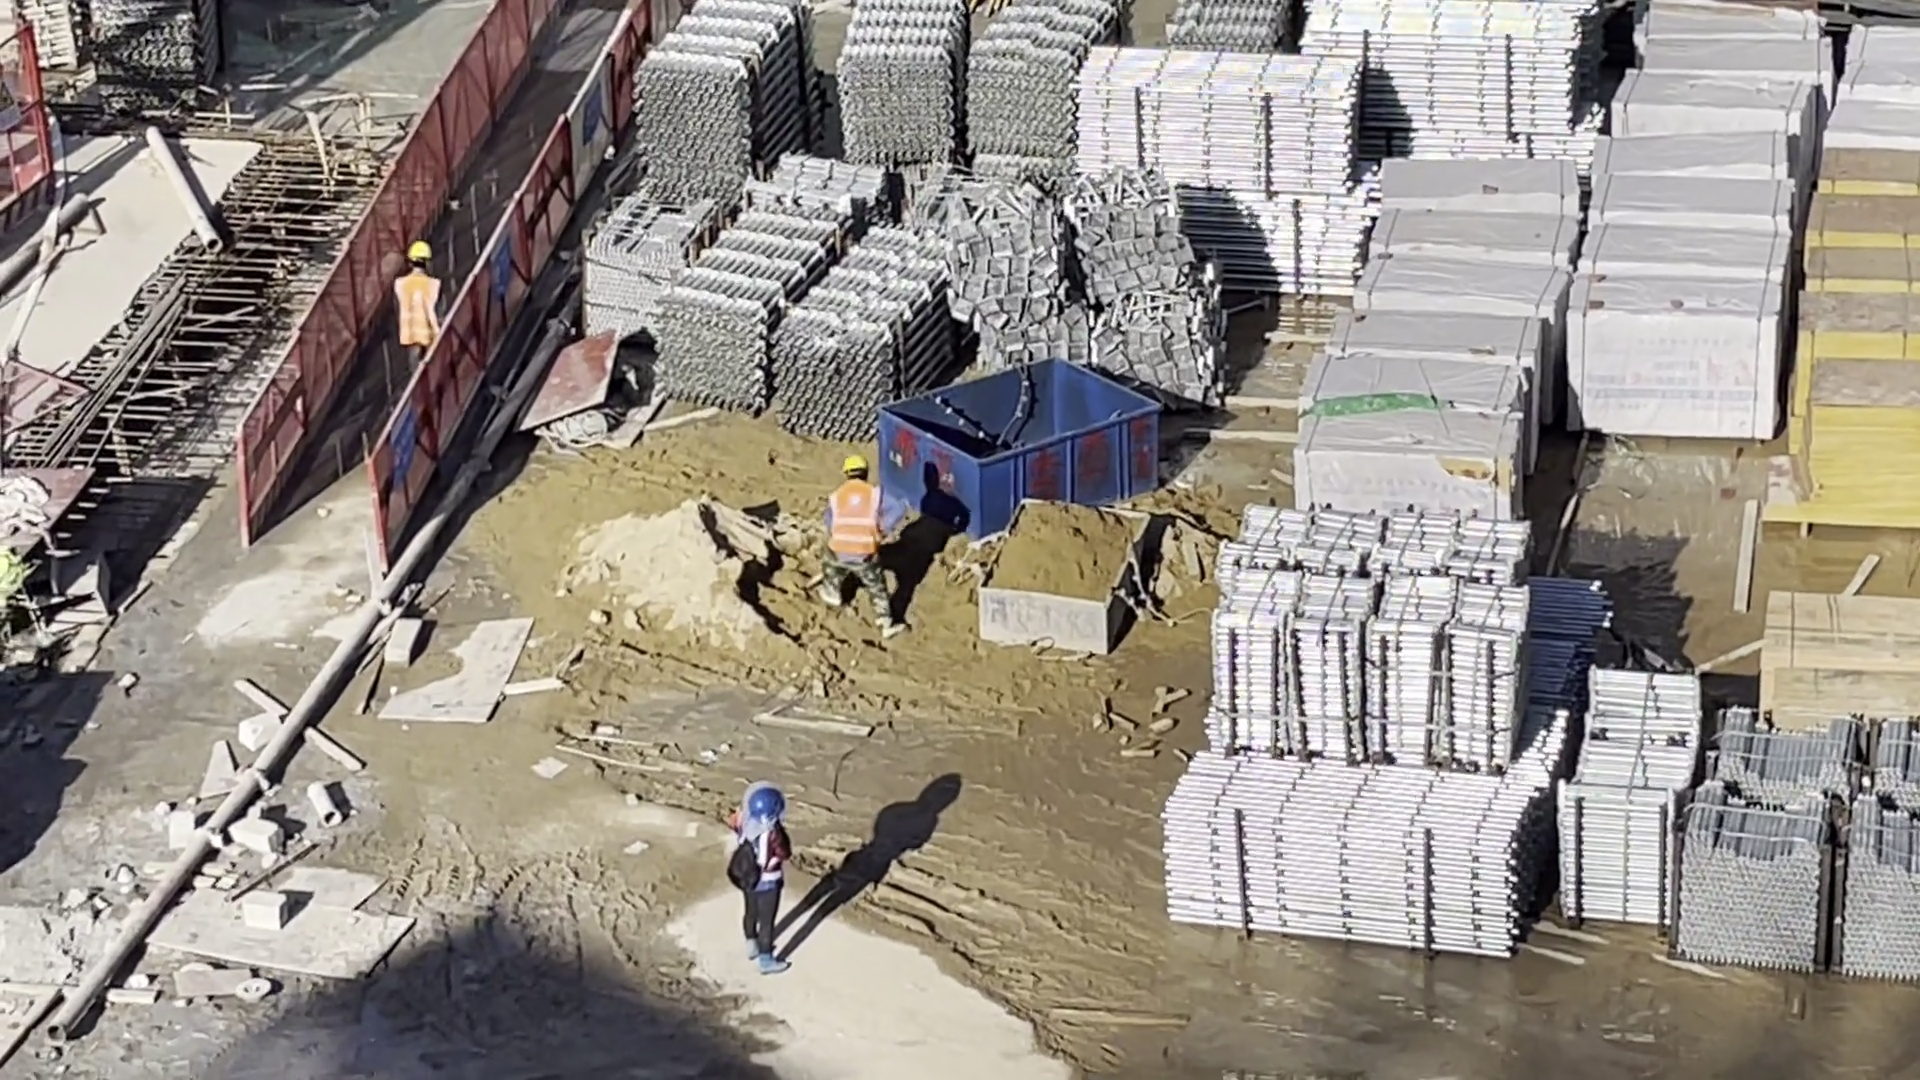board: (1789, 147, 1920, 536), (1767, 591, 1920, 712)
fence: (243, 4, 650, 543)
helmet: (753, 790, 784, 822), (840, 456, 871, 475), (409, 242, 430, 260)
hopper: (877, 357, 1161, 515), (978, 499, 1150, 653)
person: (831, 456, 892, 638), (742, 795, 792, 969), (393, 242, 447, 374)
scaffold: (1211, 510, 1531, 769), (1161, 757, 1555, 960), (666, 207, 956, 438), (1674, 718, 1920, 973), (835, 1, 1128, 166), (1082, 51, 1363, 203), (1308, 1, 1596, 133), (632, 7, 815, 193), (1570, 665, 1690, 931), (1162, 189, 1359, 304), (93, 1, 220, 83), (1, 1, 92, 80), (1171, 1, 1302, 54)
slogan: (394, 404, 413, 485), (488, 238, 509, 301)
vest: (827, 479, 877, 558), (393, 273, 431, 337), (748, 841, 782, 895)
